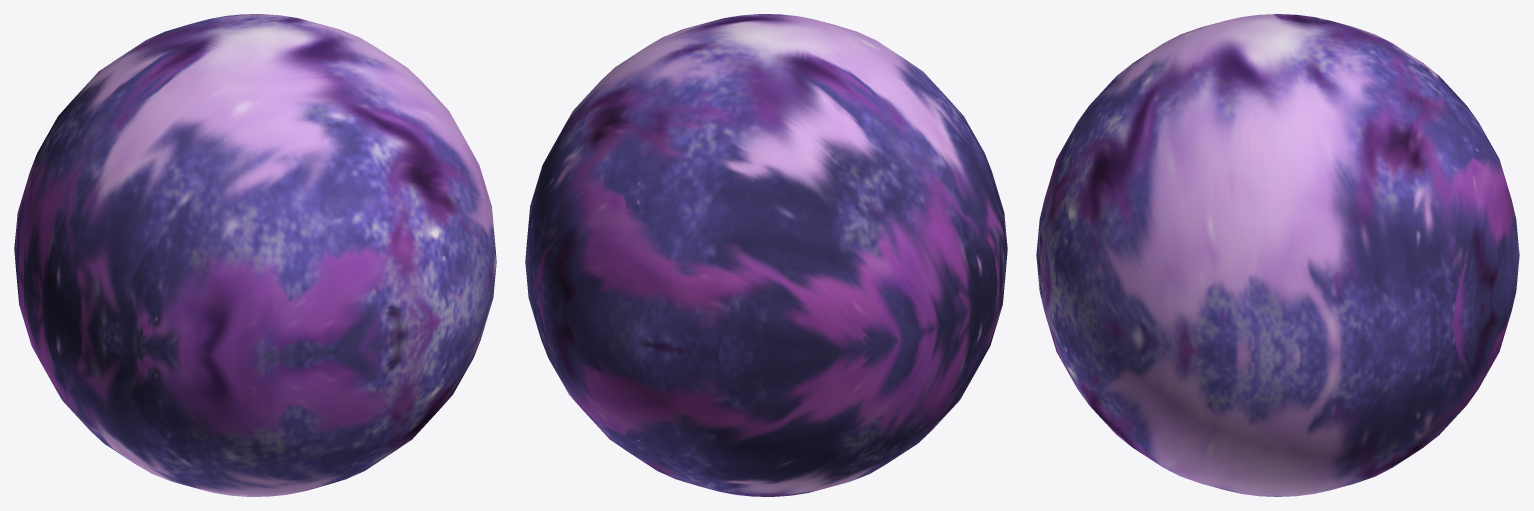
File: Uknown_planet_1.FBX
The picture shows the model from 3 angles, left to right: view 1: azimuth 30°, elevation 25°; view 2: azimuth 150°, elevation 25°; view 3: azimuth 270°, elevation 25°; orthographic projection.
Visible parts, largest first — view 1: Uknown_planet_1; view 2: Uknown_planet_1; view 3: Uknown_planet_1.
Boxes of the visible parts, x1=… form: Uknown_planet_1: x1=14, y1=14, x2=496, y2=496; Uknown_planet_1: x1=525, y1=14, x2=1007, y2=496; Uknown_planet_1: x1=1036, y1=14, x2=1519, y2=496.
Size of the model in its own units: 69.73 by 69.73 by 69.73.
